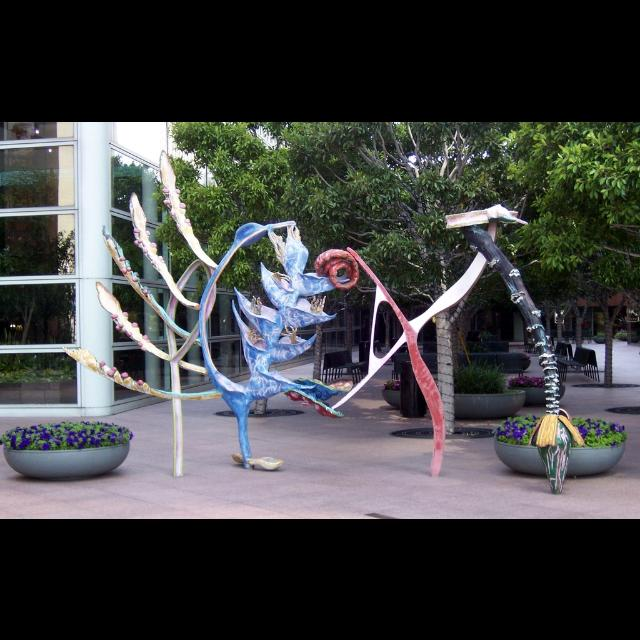Flower: (0, 419, 136, 451), (570, 416, 626, 446), (496, 414, 540, 442), (509, 371, 546, 387), (379, 380, 401, 390), (42, 442, 49, 450)
